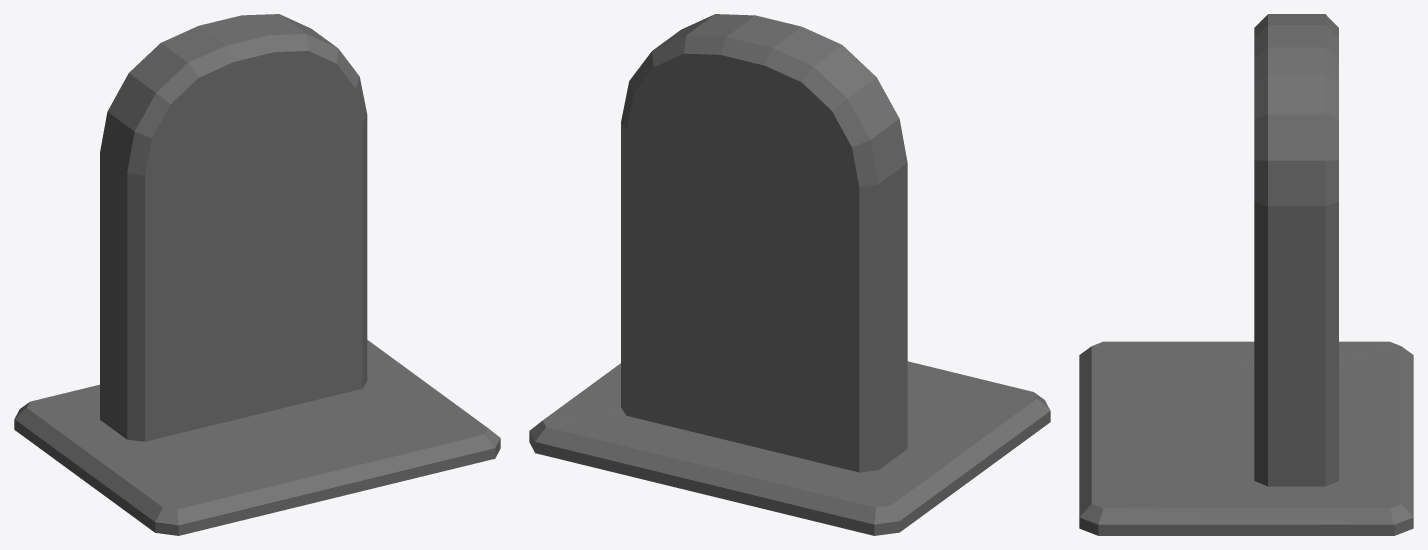
The model's file is Gravestone_1.glb.
3 renders of one model, left to right at view 1: azimuth 30°, elevation 25°; view 2: azimuth 150°, elevation 25°; view 3: azimuth 270°, elevation 25°, orthographic. The views are drawn at different scales.
Size of the model in its own units: 35.96 by 38.91 by 28.66.
1 material, 1 textured.
